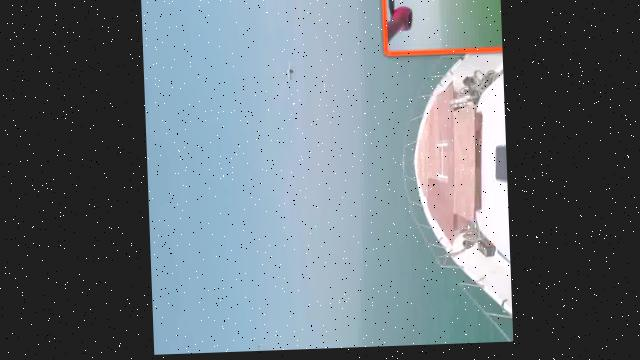drone: (276, 60, 299, 91), (242, 346, 266, 353)
